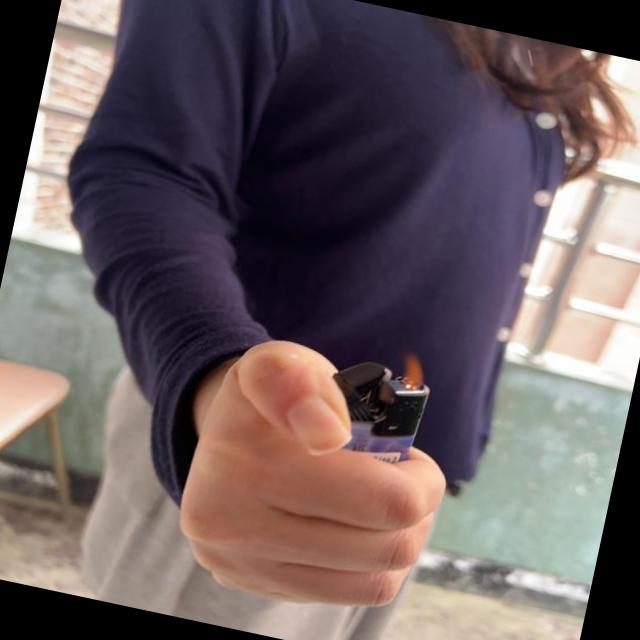Fire: (392, 348, 432, 394)
